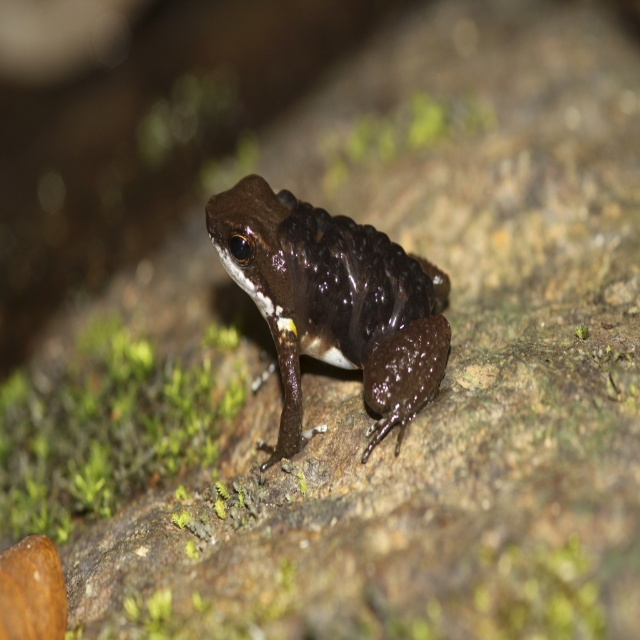Frog: (204, 171, 454, 472)
